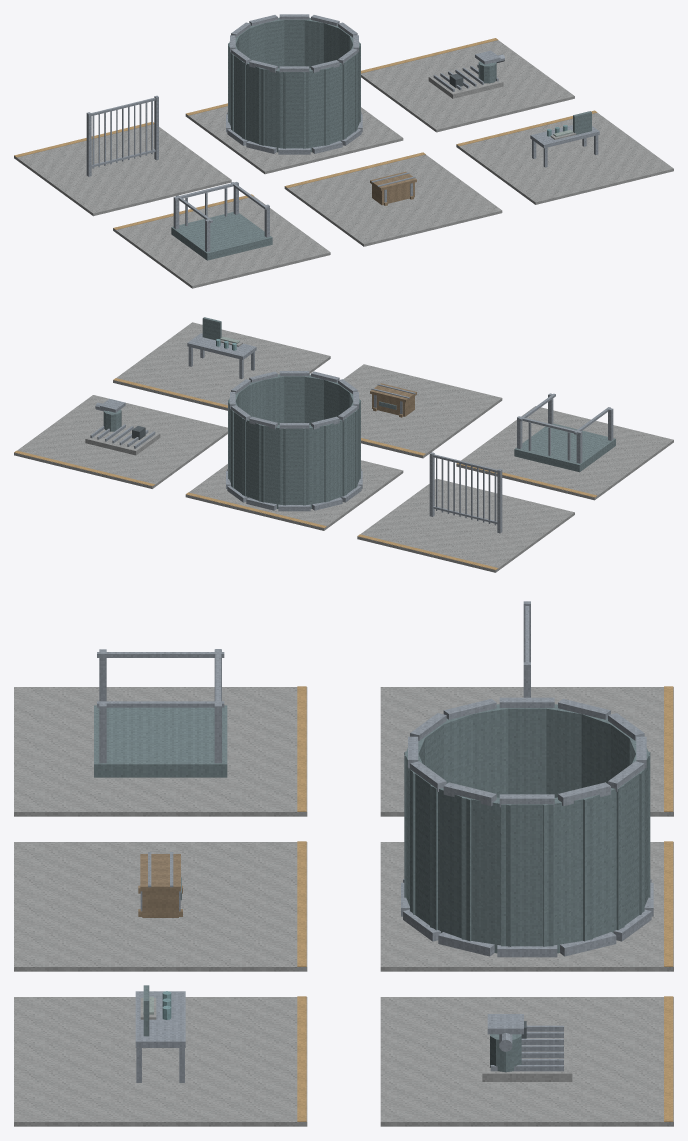
File: level_blockout_kit_wld_18_p04.glb
3 renders of one model, top to bottom at view 1: azimuth 30°, elevation 25°; view 2: azimuth 150°, elevation 25°; view 3: azimuth 270°, elevation 25°, orthographic. The views are drawn at different scales.
Parts seen in each view (by area): view 1: level_blockout_kit_wld_18_p04; view 2: level_blockout_kit_wld_18_p04; view 3: level_blockout_kit_wld_18_p04.
Boxes of the visible parts, x1=… form: level_blockout_kit_wld_18_p04: x1=14, y1=14, x2=673, y2=288; level_blockout_kit_wld_18_p04: x1=14, y1=317, x2=673, y2=572; level_blockout_kit_wld_18_p04: x1=14, y1=601, x2=673, y2=1126.
Size of the model in its own units: 19.65 by 3.39 by 12.6.
8 materials, 8 textured.
